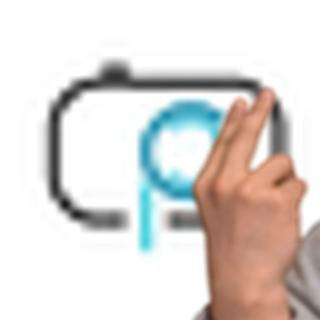DHAVE: (190, 83, 313, 292)
